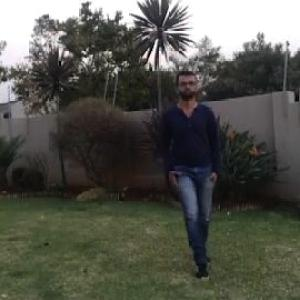follow: (162, 63, 234, 281)
